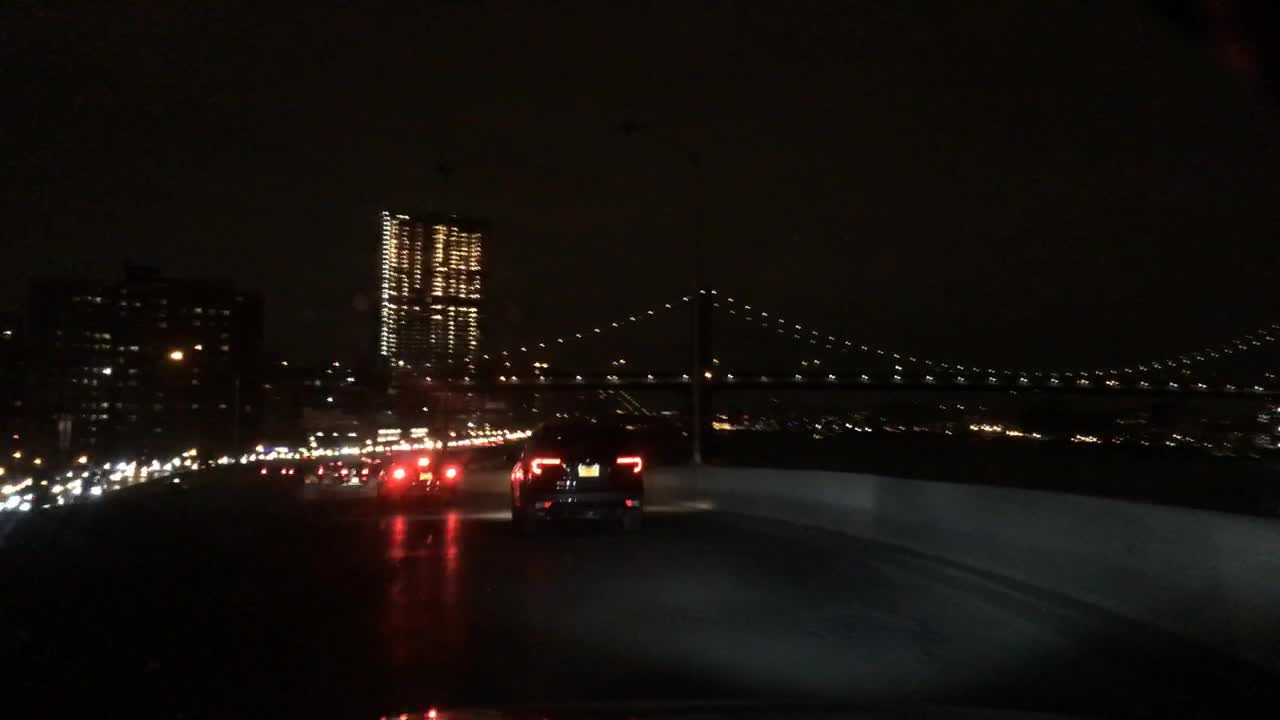car: (503, 421, 645, 531), (377, 452, 458, 503), (259, 461, 299, 483), (315, 457, 348, 483), (359, 458, 387, 484)
